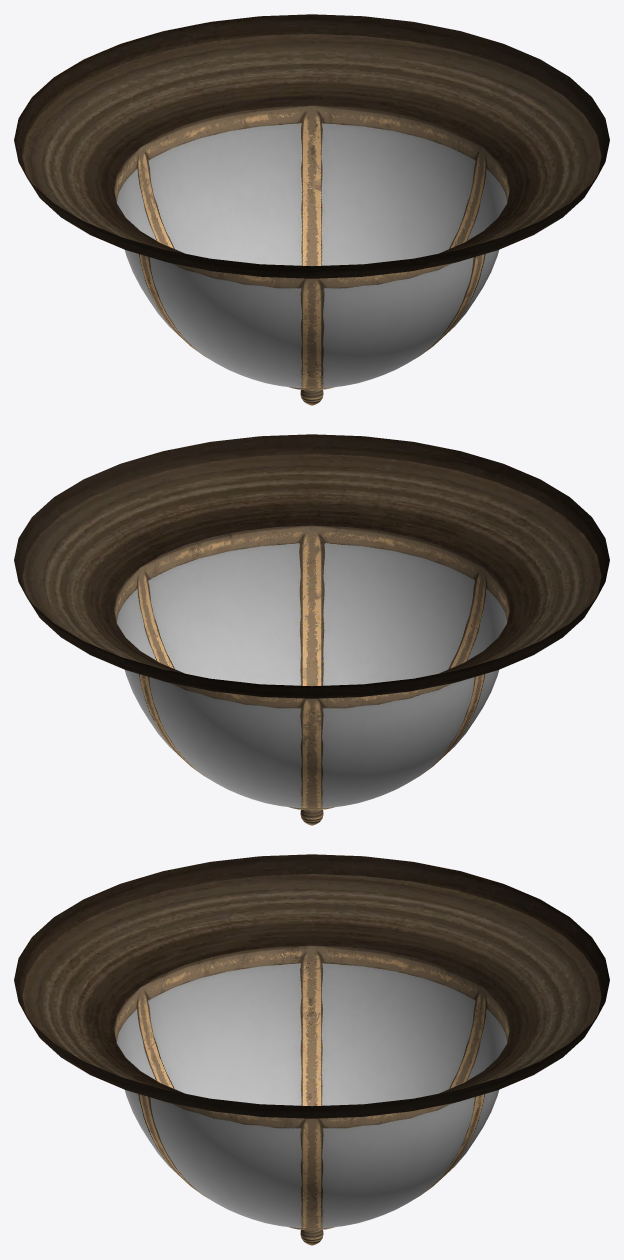
The model's file is Lamp.glb.
3 renders of one model, top to bottom at view 1: azimuth 30°, elevation 25°; view 2: azimuth 150°, elevation 25°; view 3: azimuth 270°, elevation 25°, orthographic.
Visible parts, largest first — view 1: defaultMaterial; view 2: defaultMaterial; view 3: defaultMaterial.
Boxes of the visible parts, bbox=[...] form: defaultMaterial: bbox=[14, 14, 609, 405]; defaultMaterial: bbox=[14, 434, 609, 825]; defaultMaterial: bbox=[14, 854, 609, 1245].
Bounding box in the file's own units: 2.01 × 0.9866 × 2.01.
1 material, 1 textured.
